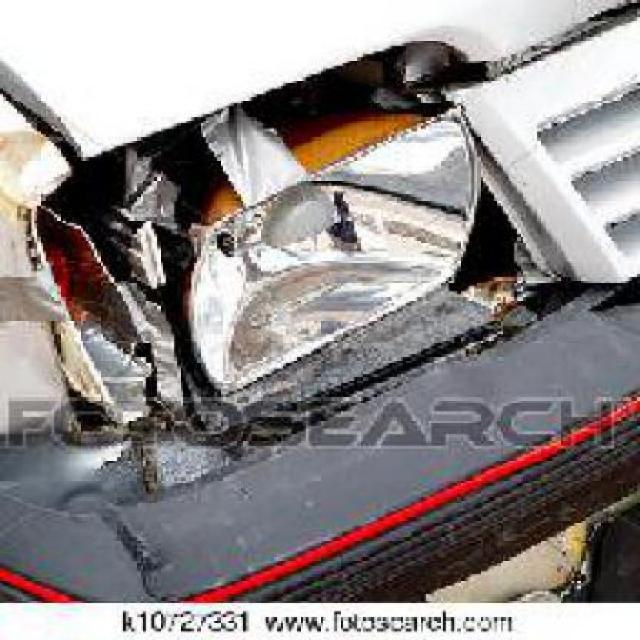damaged-head-light: (64, 48, 546, 418)
